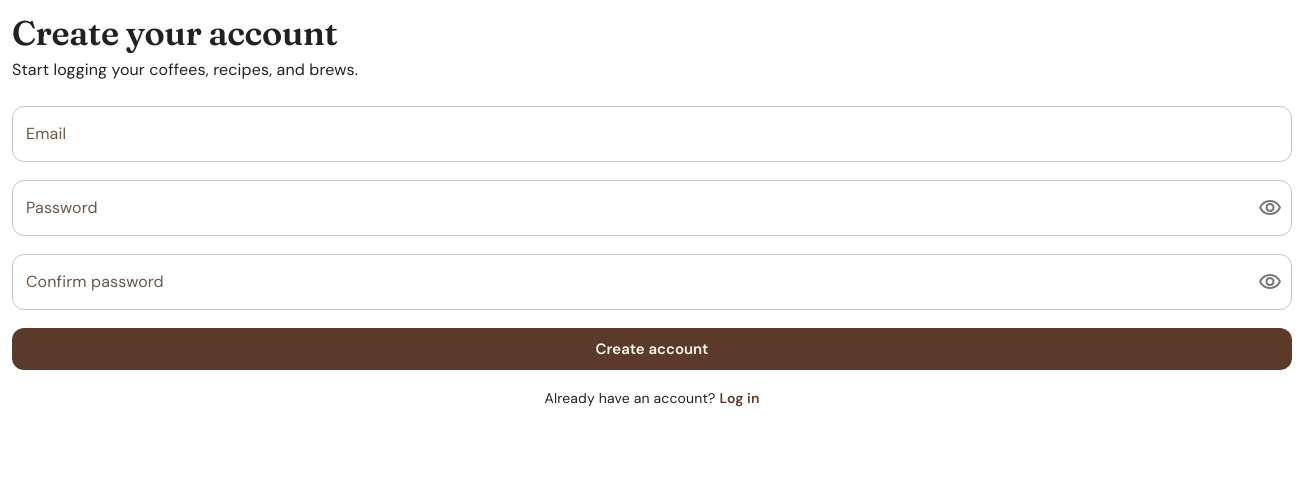
Test: RegisterForm › shows an error when registration fails
Type "brewer@example.com" into the field labelled "Email" at (652, 134), box [12,106,1292,162]
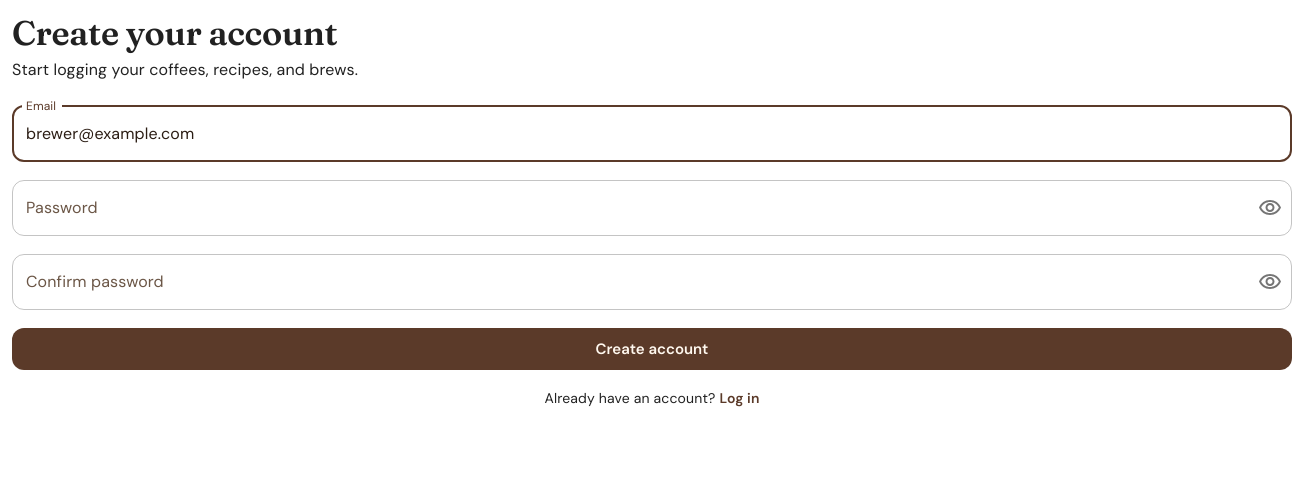
Type "brew-test-pass-001" into the password field labelled "Password" at (627, 208), box [12,180,1242,236]
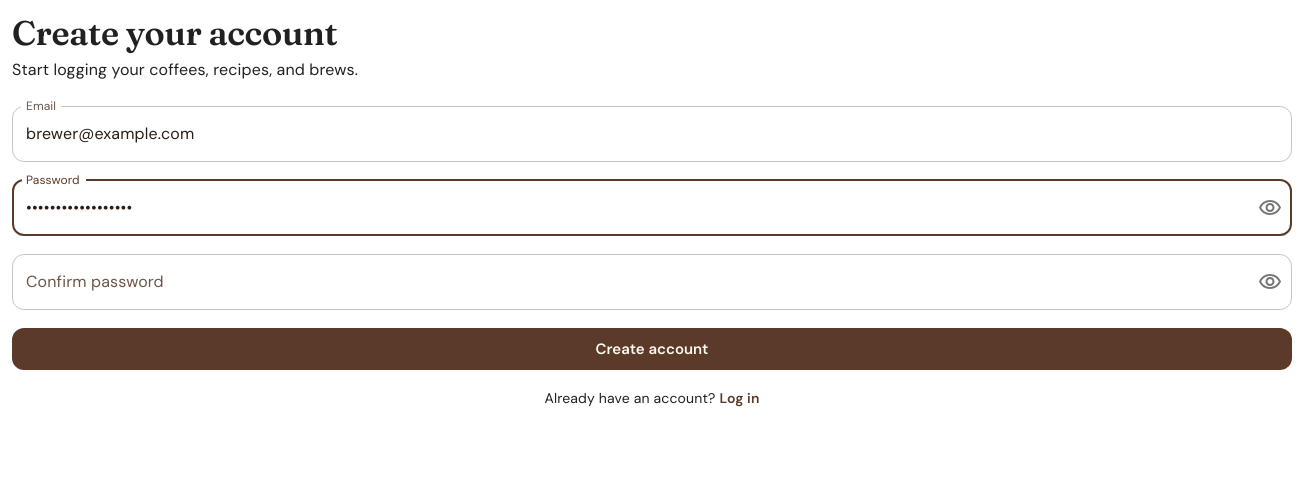
Type "brew-test-pass-001" into the password field labelled "Confirm password" at (627, 282), box [12,254,1242,310]
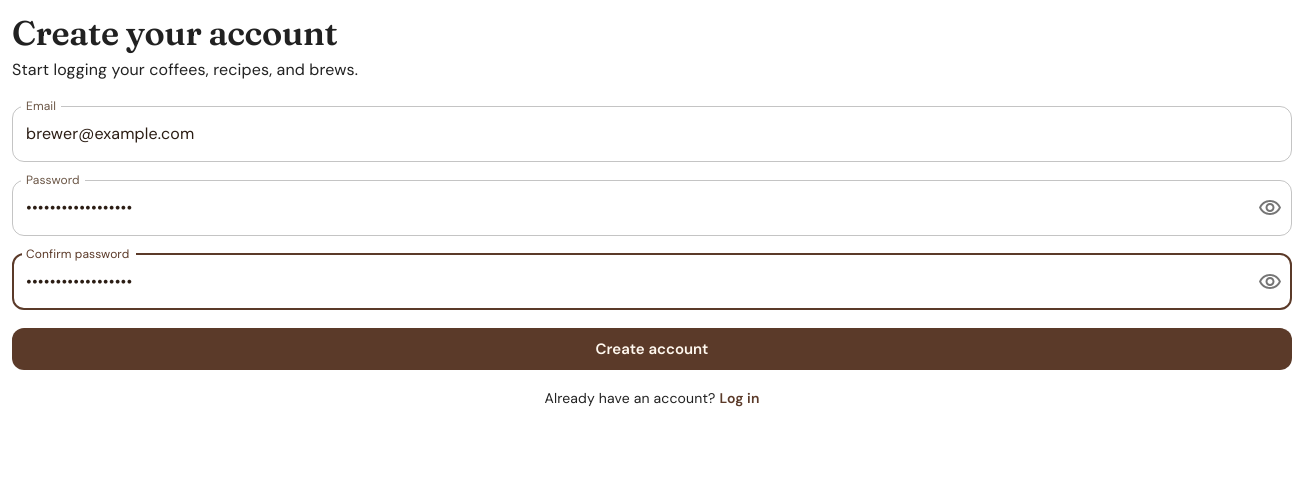
Click the button "Create account" at (652, 349), box [12,328,1292,370]
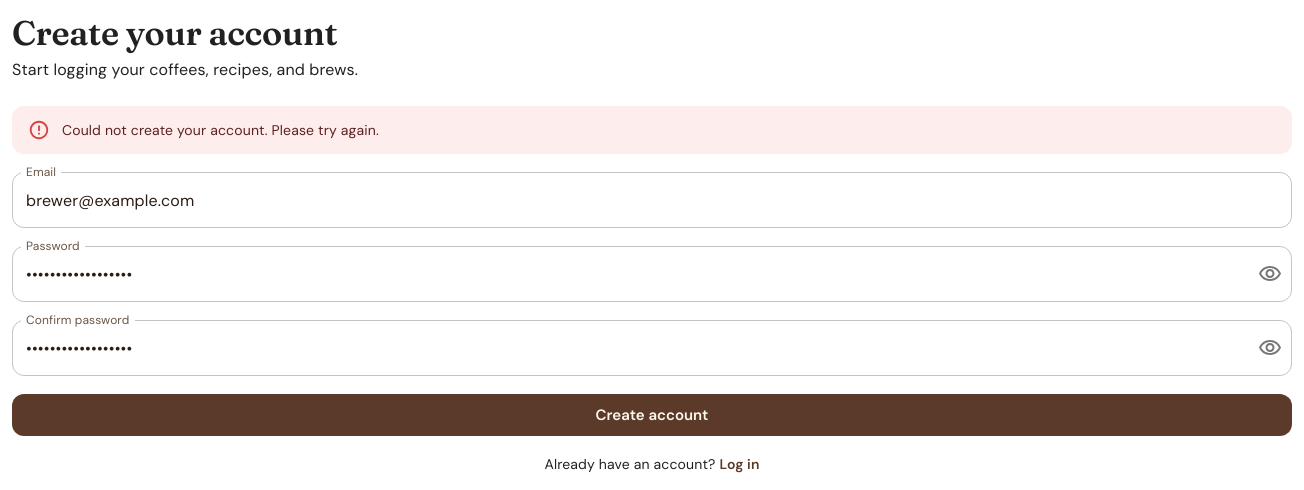
Check: the text "Could not create your account. Please try again." is shown, box [62,121,379,139]
